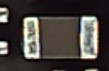COMP: (18, 14, 102, 64)
GAP: (1, 17, 37, 56)
